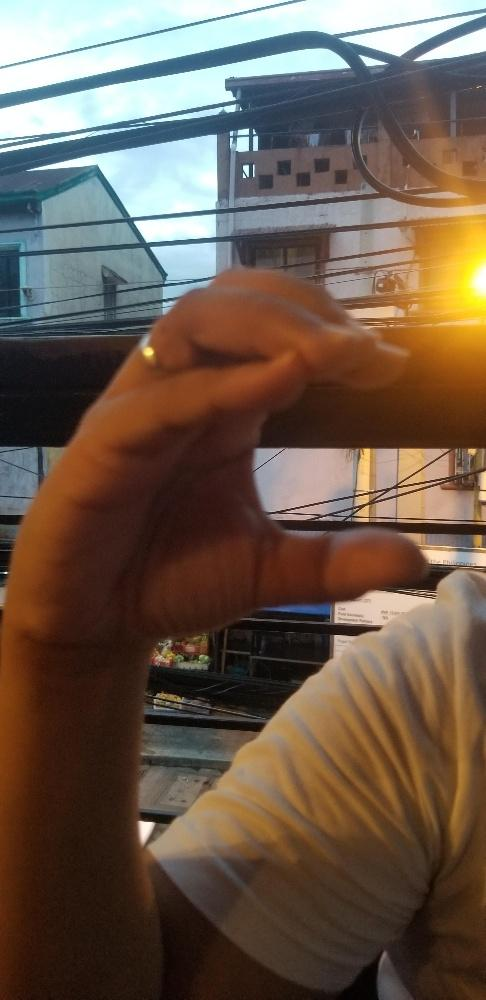c: (6, 263, 438, 641)
